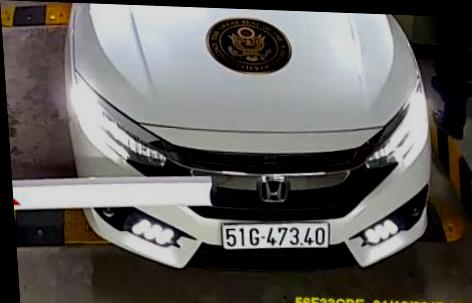License_Plate: (219, 218, 334, 254)
